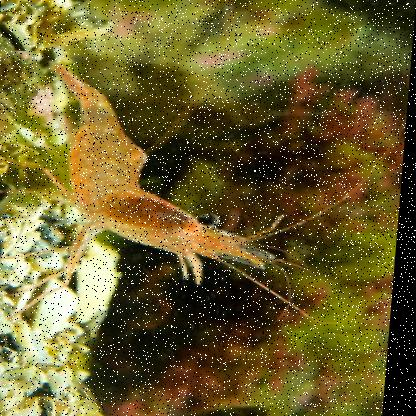shrimp: (34, 50, 296, 276)
